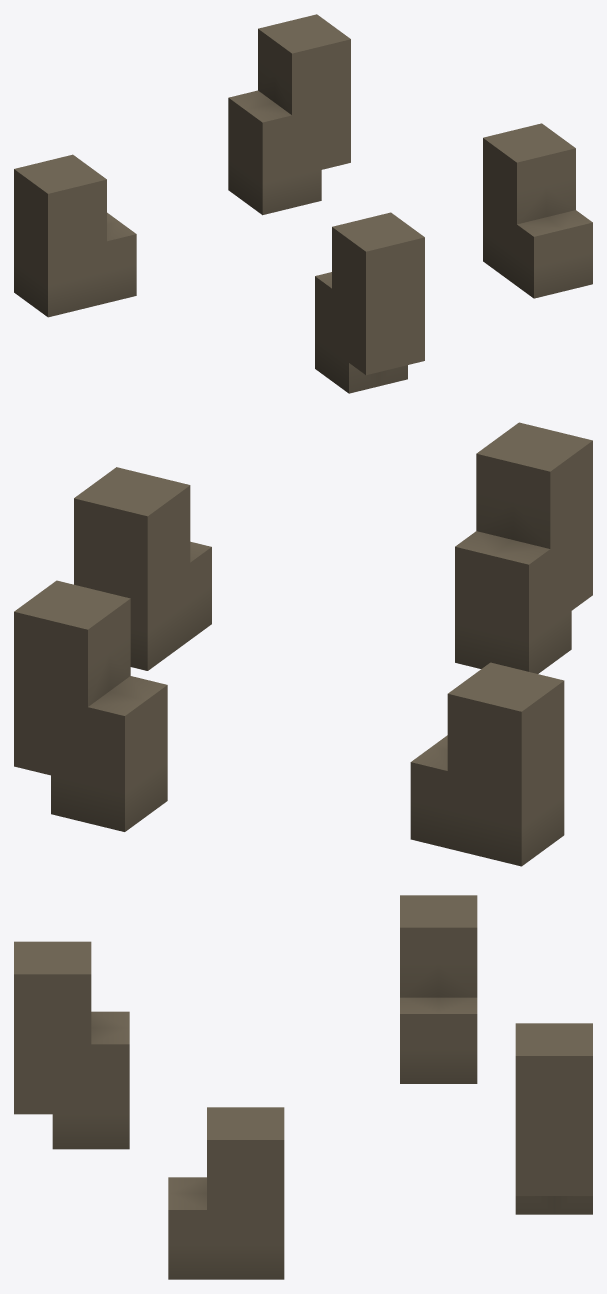
The model's file is flowers_3_winter.glb.
The picture shows the model from 3 angles, top to bottom: view 1: azimuth 30°, elevation 25°; view 2: azimuth 150°, elevation 25°; view 3: azimuth 270°, elevation 25°; orthographic projection. The views are drawn at different scales.
Visible parts, largest first — view 1: VoxelVisual; view 2: VoxelVisual; view 3: VoxelVisual.
Part boxes in pixels (<box>): VoxelVisual: <box>14,14,592,393</box>; VoxelVisual: <box>14,422,592,866</box>; VoxelVisual: <box>14,895,592,1279</box>.
Size of what is drawn, in the model's own units: 0.9375 by 0.3125 by 0.9375.
